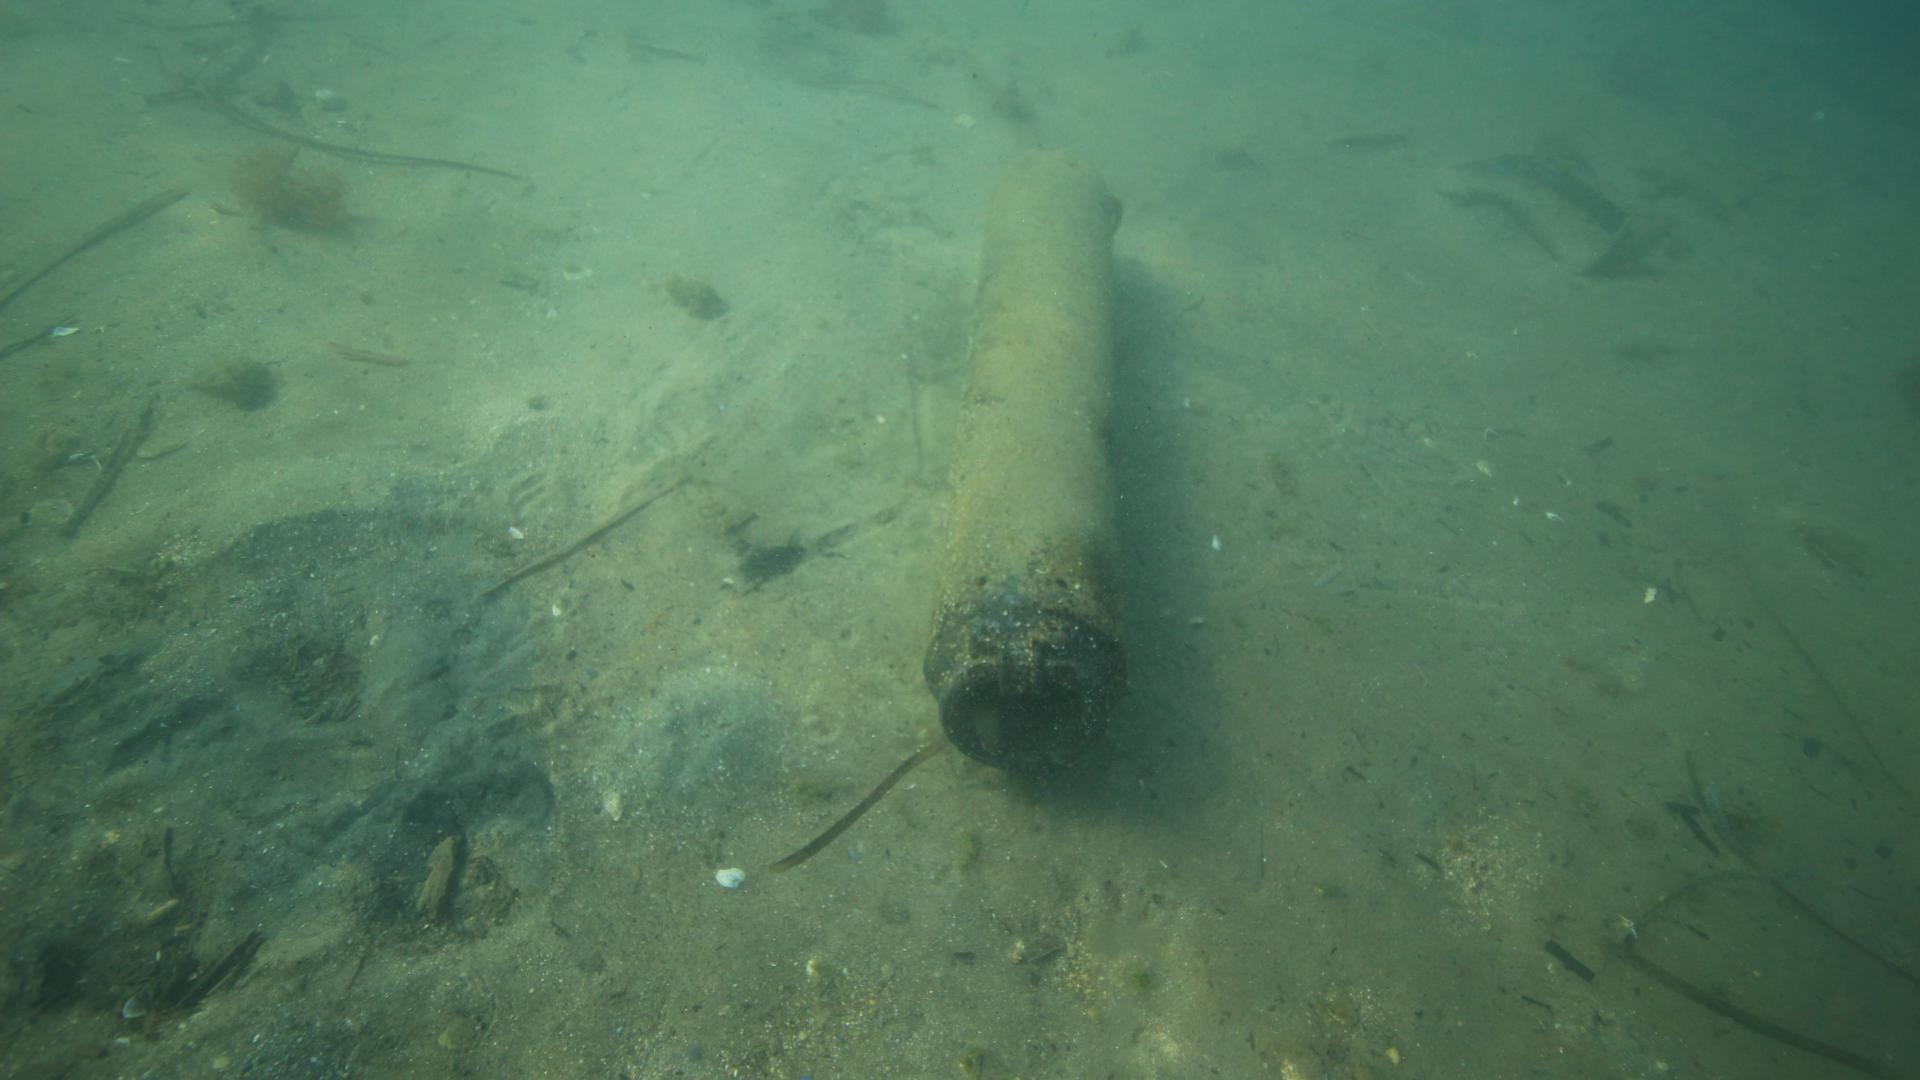eel fish trap: (915, 145, 1142, 785)
